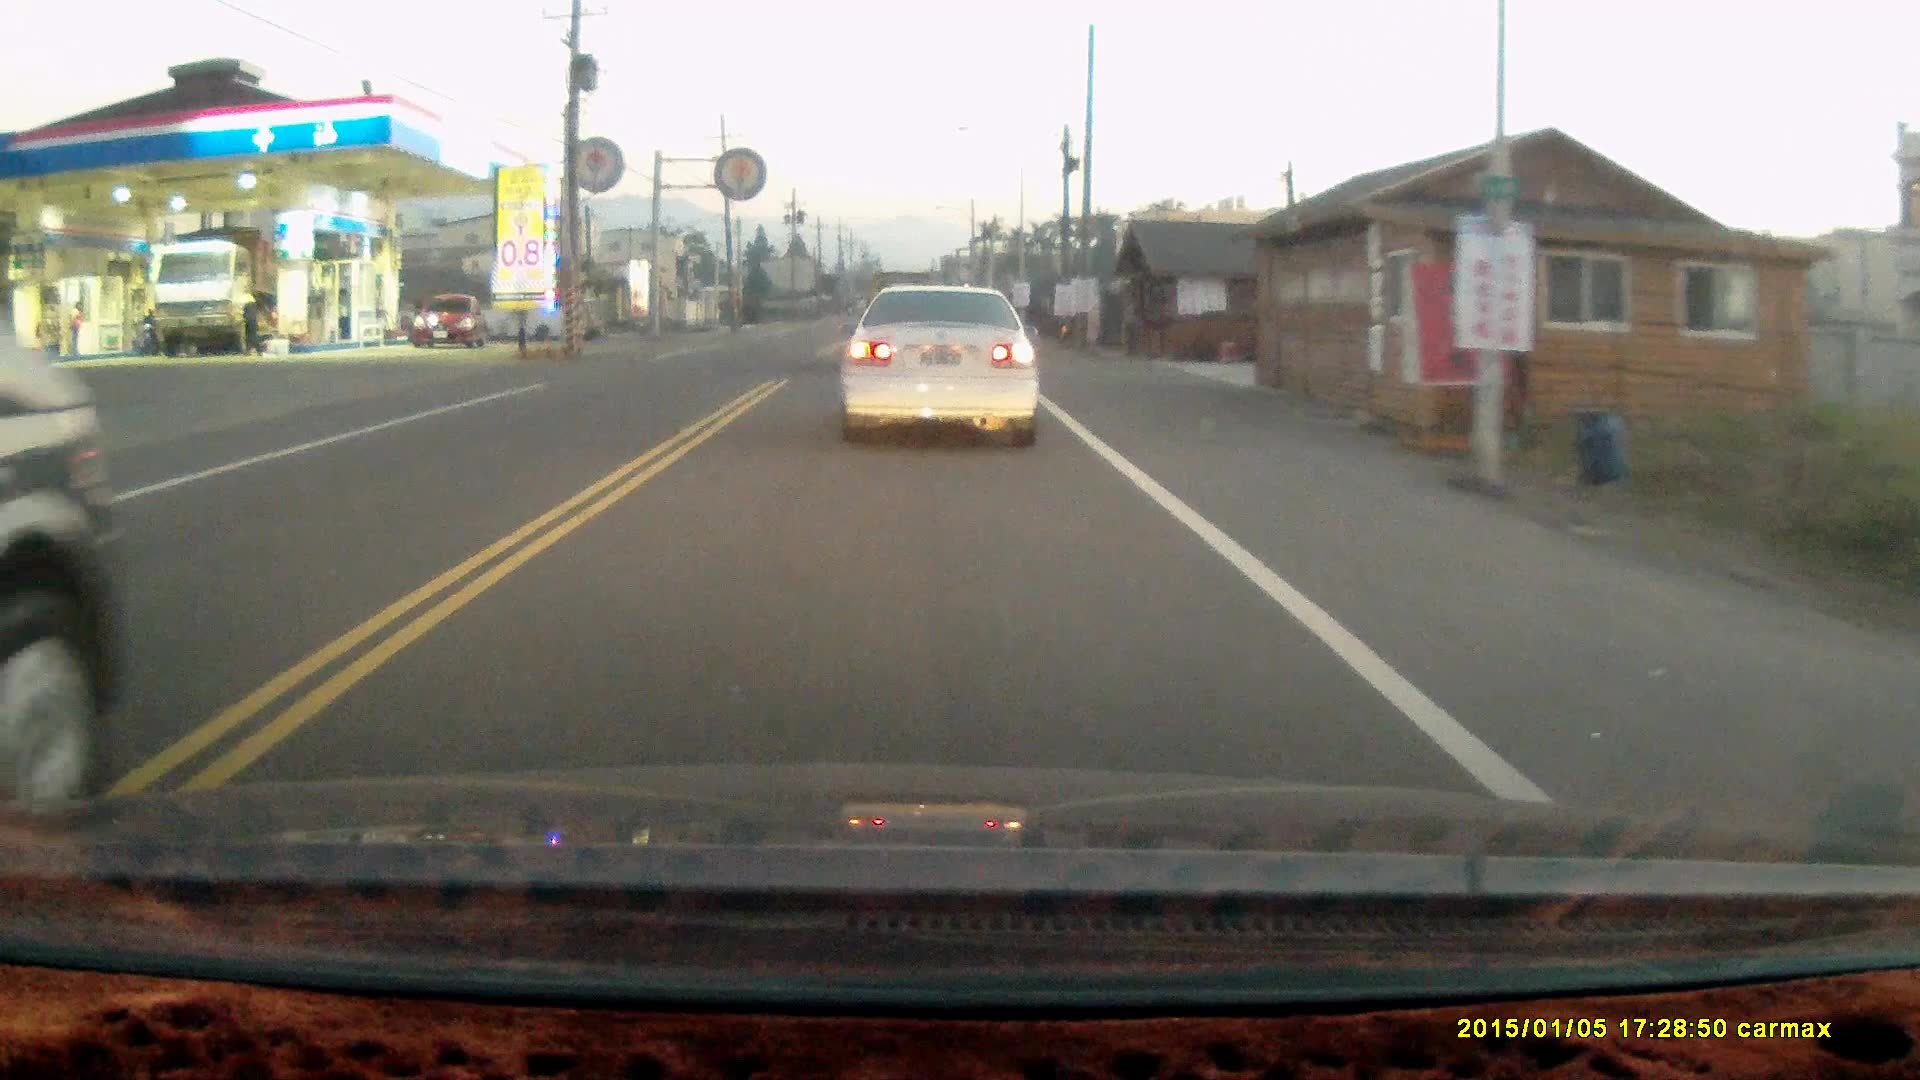pedestrian: (233, 283, 262, 355)
vehicle: (1, 311, 126, 836), (840, 280, 1046, 455), (149, 233, 274, 358), (411, 298, 491, 351)
